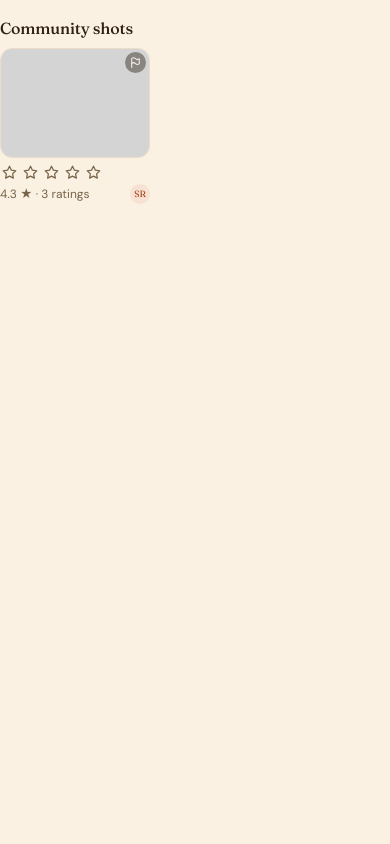
Test case: reporting a community shot › cannot submit before a reason is chosen
What coordinates should you click on to do the following:
click the button named "report this shot"
I would click on:
 (136, 62)
Its box is top-left (125, 52), bottom-right (146, 73).
(page scrolled)
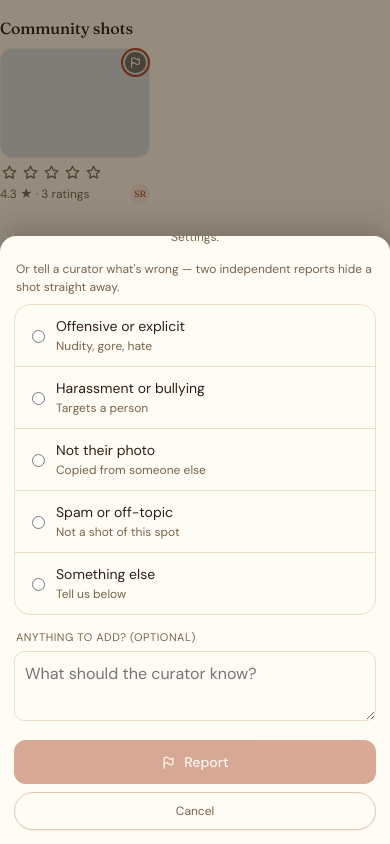
Check: the button "Report" is disabled, box top-left (14, 740), bottom-right (376, 784)
